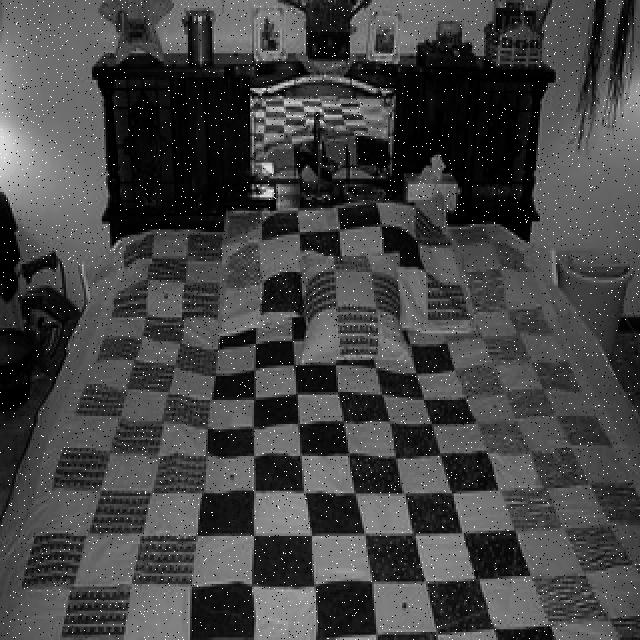bed: (0, 197, 638, 640)
